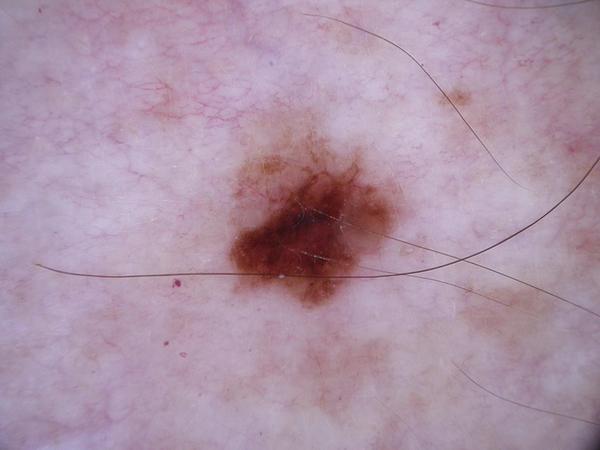Detected Lesion: (224, 146, 407, 316)
